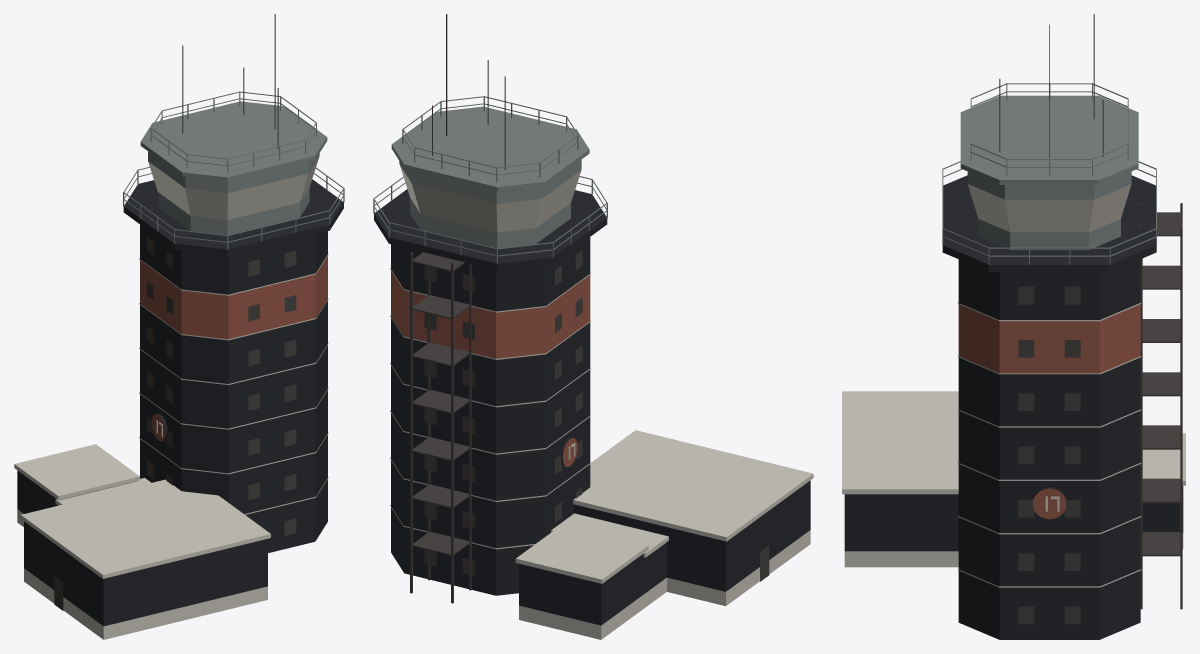
File: cyxd_control_tower.gltf
3 views of the same model, side by side, from view 1: azimuth 30°, elevation 25°; view 2: azimuth 150°, elevation 25°; view 3: azimuth 270°, elevation 25° (orthographic). The views are drawn at different scales.
Visible parts, largest first — view 1: cyxd_control_tower; view 2: cyxd_control_tower; view 3: cyxd_control_tower.
Part boxes in pixels (x1,y1,x2,y2): cyxd_control_tower: (14, 14, 344, 639); cyxd_control_tower: (373, 14, 813, 639); cyxd_control_tower: (842, 14, 1185, 639).
Size of the model in its own units: 23.43 by 36.95 by 19.3.
